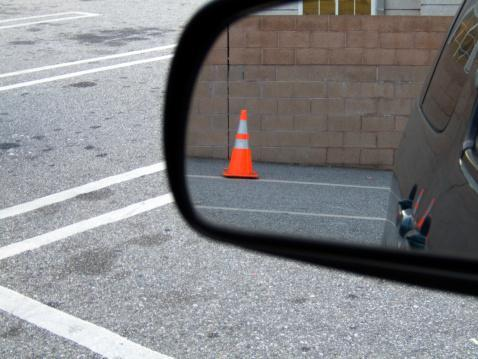Cone: (225, 110, 259, 179)
